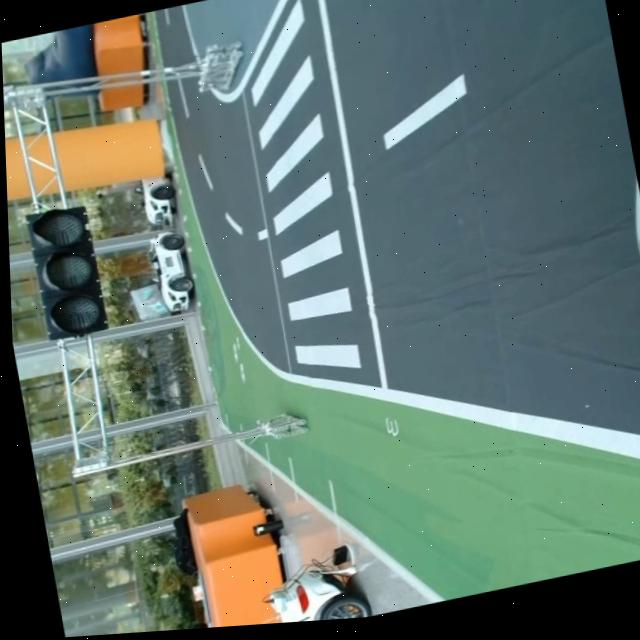traffic-light: (24, 198, 111, 346)
